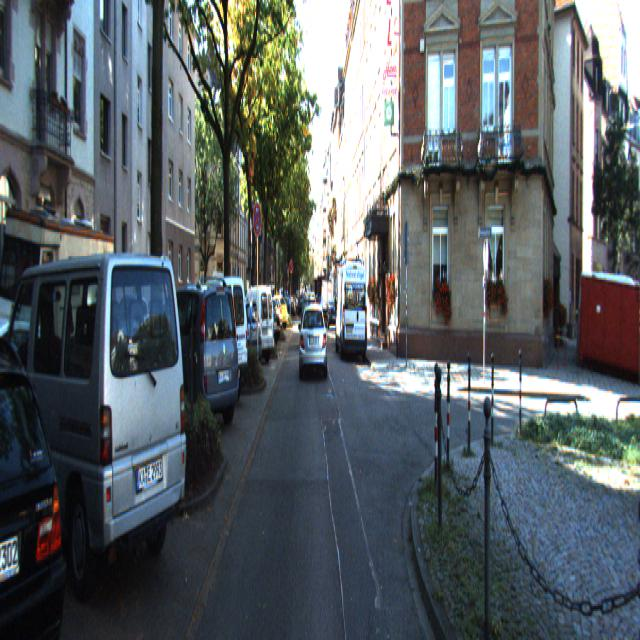Car: (0, 228, 193, 615), (0, 324, 85, 638), (0, 199, 117, 402), (148, 281, 243, 443), (184, 280, 250, 415), (212, 302, 264, 379), (228, 286, 276, 368), (336, 253, 369, 353), (300, 306, 328, 380), (300, 296, 318, 349)
